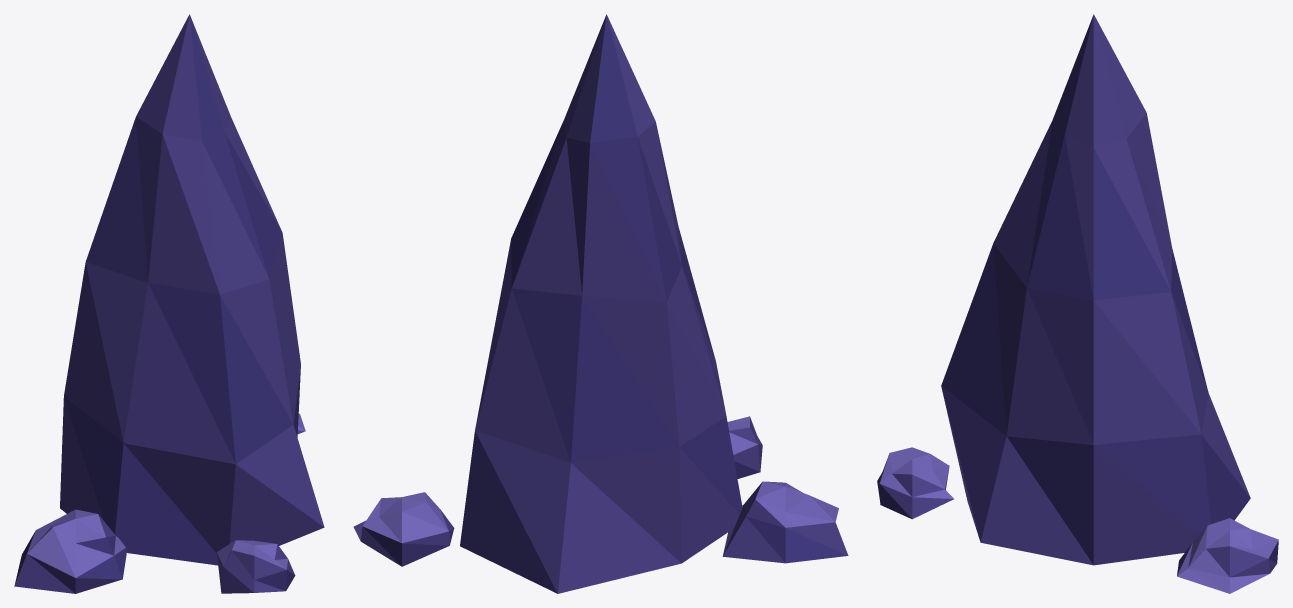
Rendered from Mine_Rock_Spire_A.obj.
3 renders of one model, left to right at view 1: azimuth 30°, elevation 25°; view 2: azimuth 150°, elevation 25°; view 3: azimuth 270°, elevation 25°, orthographic. The views are drawn at different scales.
Parts seen in each view (by area): view 1: Mine_Rock_Spire_A; view 2: Mine_Rock_Spire_A; view 3: Mine_Rock_Spire_A.
Part boxes in pixels (x1,y1,x2,y2): Mine_Rock_Spire_A: (14,14,324,593); Mine_Rock_Spire_A: (353,14,848,593); Mine_Rock_Spire_A: (877,14,1278,593).
Bounding box in the file's own units: 2.93 × 3.65 × 2.66.
